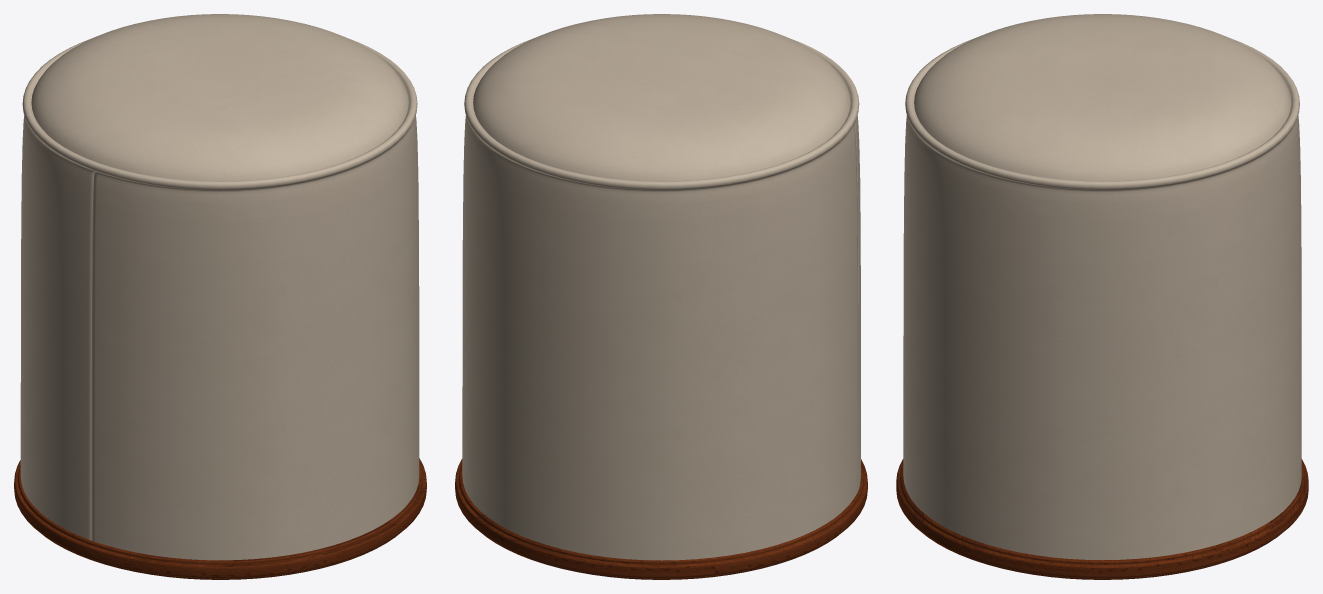
Rendered from Tapicerk_i_krzesla_puf_okragly_eltre.obj.
The picture shows the model from 3 angles, left to right: view 1: azimuth 30°, elevation 25°; view 2: azimuth 150°, elevation 25°; view 3: azimuth 270°, elevation 25°; orthographic projection.
Visible parts, largest first — view 1: Cylinder001, Cylinder002; view 2: Cylinder001, Cylinder002; view 3: Cylinder001, Cylinder002.
Part boxes in pixels (<box>): Cylinder001: <box>20,14,419,560</box>; Cylinder002: <box>14,458,426,579</box>; Cylinder001: <box>462,14,860,560</box>; Cylinder002: <box>455,459,867,579</box>; Cylinder001: <box>903,14,1301,560</box>; Cylinder002: <box>896,459,1308,579</box>.
Size of the model in its own units: 40.64 by 46.21 by 40.64.
